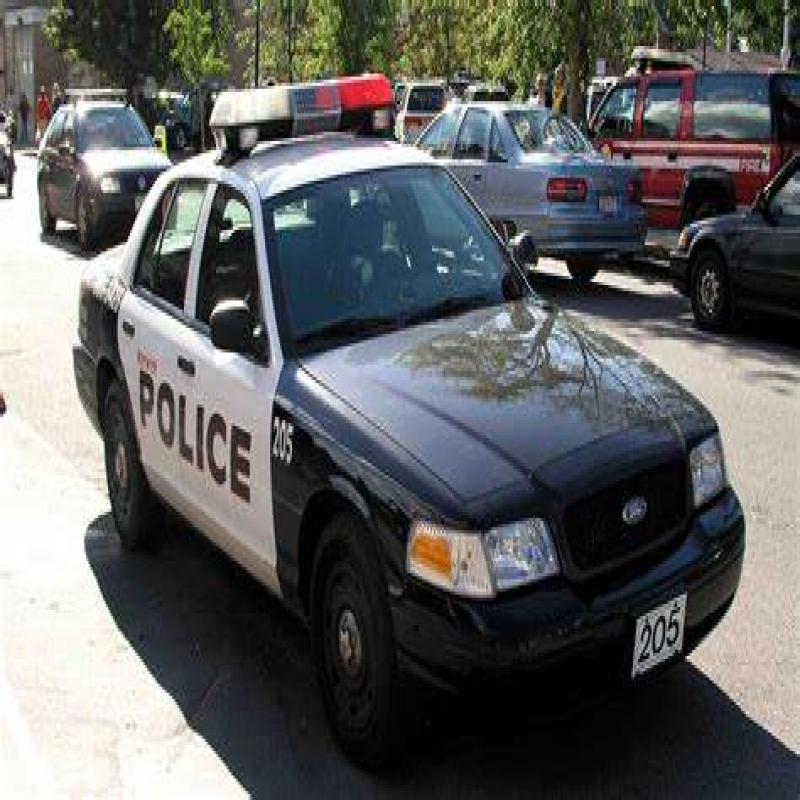AmbulanceSiren: (213, 82, 406, 138)
car: (62, 152, 752, 692)
